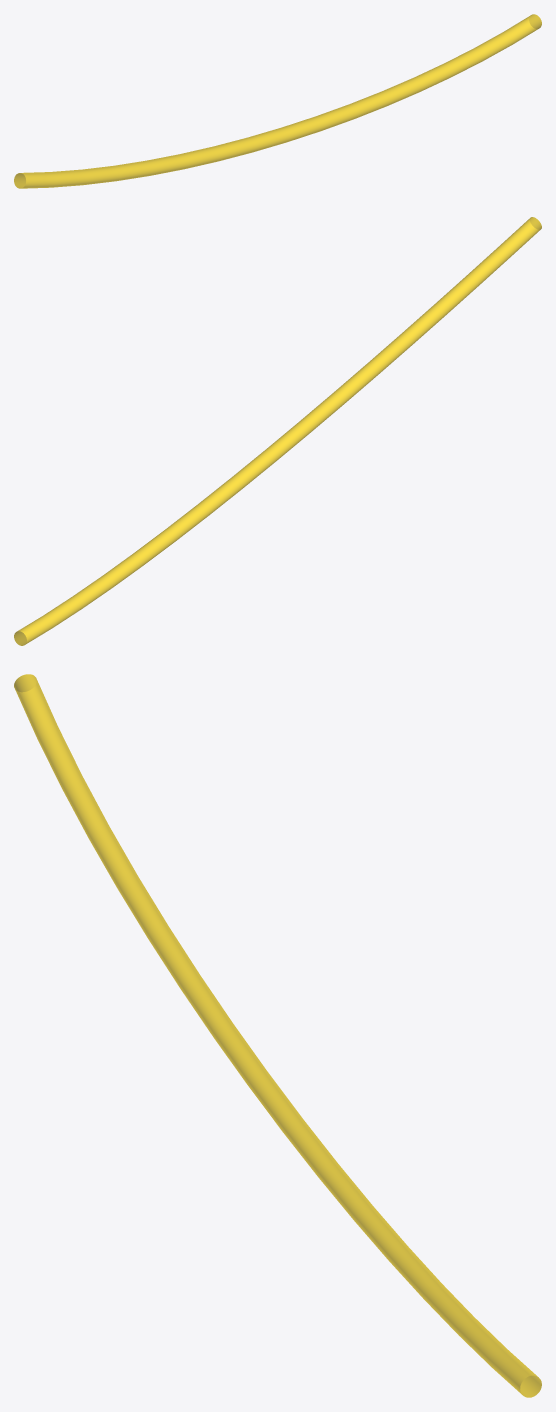
Rendered from Event_419990632_track_39.fbx.
3 renders of one model, top to bottom at view 1: azimuth 30°, elevation 25°; view 2: azimuth 210°, elevation 25°; view 3: azimuth 270°, elevation 25°, orthographic. The views are drawn at different scales.
Visible parts, largest first — view 1: Model; view 2: Model; view 3: Model.
Part boxes in pixels (x1=…): Model: x1=14, y1=14, x2=541, y2=188; Model: x1=14, y1=217, x2=541, y2=645; Model: x1=14, y1=674, x2=541, y2=1397.
Size of the model in its own units: 2.01 by 0.3964 by 0.8741.
